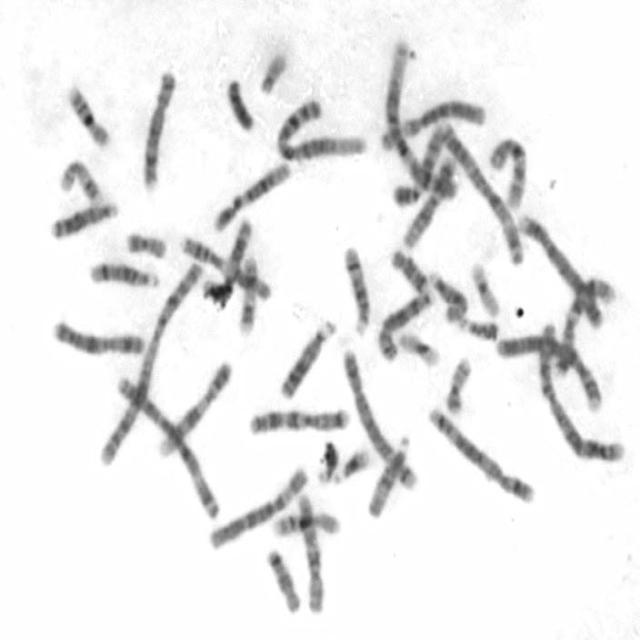A1: (381, 37, 458, 203), (273, 96, 368, 162)
A2: (92, 256, 205, 469), (533, 319, 627, 465)
A3: (112, 370, 222, 521), (432, 120, 526, 266)
B4: (514, 208, 606, 332), (492, 327, 604, 415)
B5: (340, 342, 419, 491), (425, 403, 537, 506)
C10: (294, 486, 326, 616), (486, 130, 528, 212)
C11: (177, 231, 273, 301), (199, 214, 254, 303)
C12: (209, 157, 293, 234), (399, 152, 458, 251)
C6: (205, 462, 311, 552), (376, 94, 488, 153)
C7: (550, 270, 618, 380), (244, 403, 351, 437)
C8: (138, 64, 178, 192), (374, 286, 434, 365)
C9: (152, 355, 234, 460), (390, 124, 447, 212)
D13: (276, 315, 336, 402), (46, 197, 121, 242)
D14: (340, 241, 371, 338), (86, 255, 160, 291)
D15: (364, 429, 412, 521), (426, 268, 469, 324)
E16: (64, 80, 111, 150), (268, 506, 342, 538)
E17: (56, 154, 104, 204), (235, 252, 260, 337)
E18: (264, 544, 302, 616), (388, 244, 429, 294)
F19: (467, 255, 502, 318), (395, 328, 441, 370)
F20: (442, 352, 474, 415), (124, 227, 168, 260)
G21: (330, 444, 373, 486), (314, 436, 342, 486)
G22: (256, 49, 288, 96), (456, 315, 499, 343)
X: (48, 315, 147, 359)
Y: (223, 74, 256, 133)
